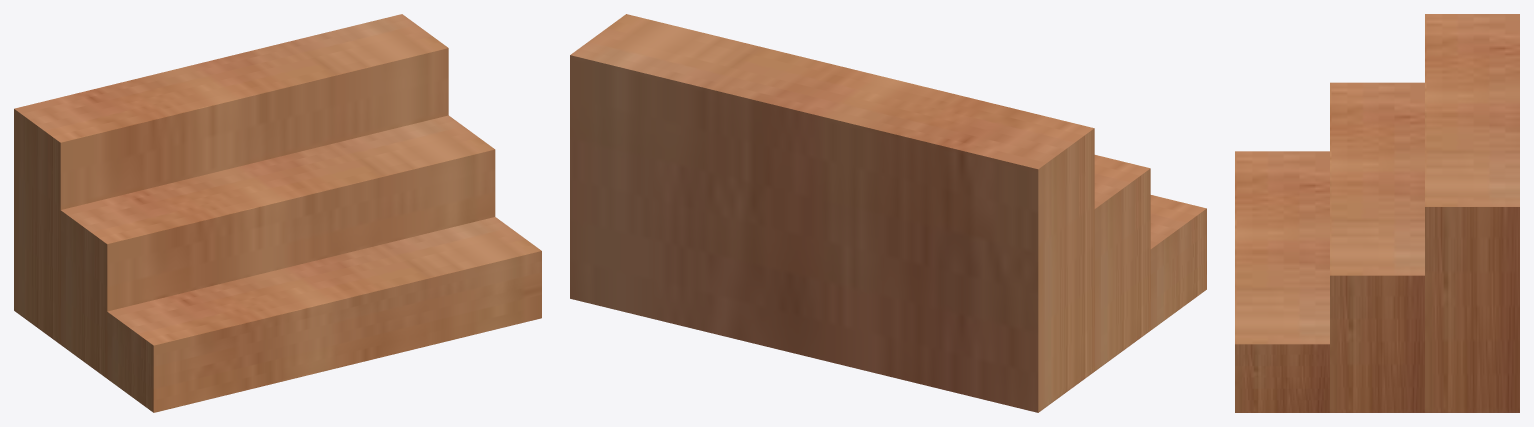
Rendered from mesa.fbx.
The picture shows the model from 3 angles, left to right: view 1: azimuth 30°, elevation 25°; view 2: azimuth 150°, elevation 25°; view 3: azimuth 270°, elevation 25°; orthographic projection. The views are drawn at different scales.
Visible parts, largest first — view 1: pCube4; view 2: pCube4; view 3: pCube4.
Part boxes in pixels (x1,y1,x2,y2): pCube4: (14, 14, 541, 412); pCube4: (570, 14, 1206, 412); pCube4: (1235, 14, 1519, 412).
Bounding box in the file's own units: 0.0607 × 0.0302 × 0.0379.
1 material, 1 textured.
